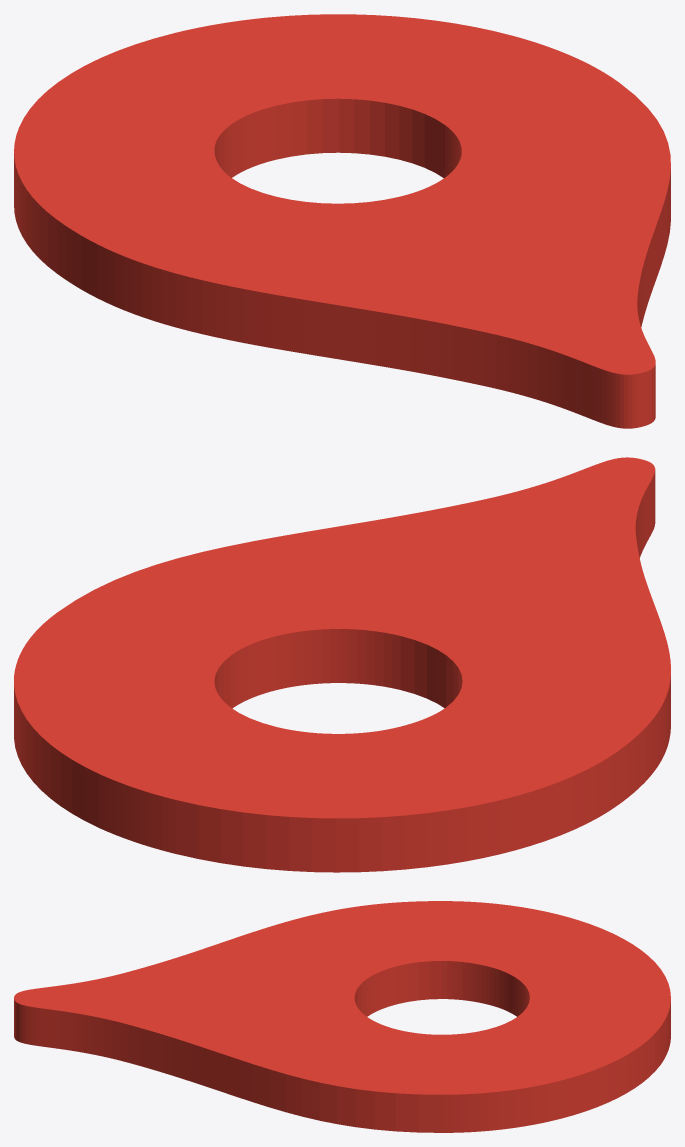
The model's file is pin.gltf.
3 renders of one model, top to bottom at view 1: azimuth 30°, elevation 25°; view 2: azimuth 150°, elevation 25°; view 3: azimuth 270°, elevation 25°, orthographic. The views are drawn at different scales.
Visible parts, largest first — view 1: Curve; view 2: Curve; view 3: Curve.
Boxes of the visible parts, <box> form: Curve: <box>14,14,670,428</box>; Curve: <box>14,457,670,872</box>; Curve: <box>14,901,670,1132</box>.
Size of the model in its own units: 3.86 by 0.3545 by 5.53.
